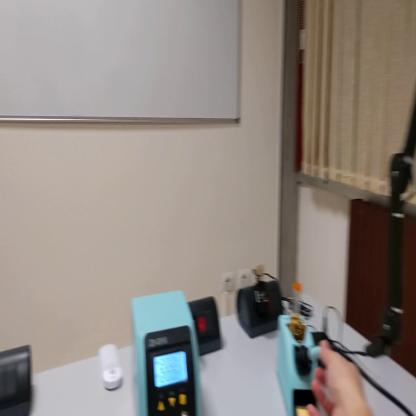hand: (310, 340, 366, 416)
socket: (236, 281, 285, 339), (188, 295, 224, 360)
welder base: (278, 315, 332, 416)
welder probe tip: (292, 345, 338, 367)
welder station: (129, 292, 206, 416)
